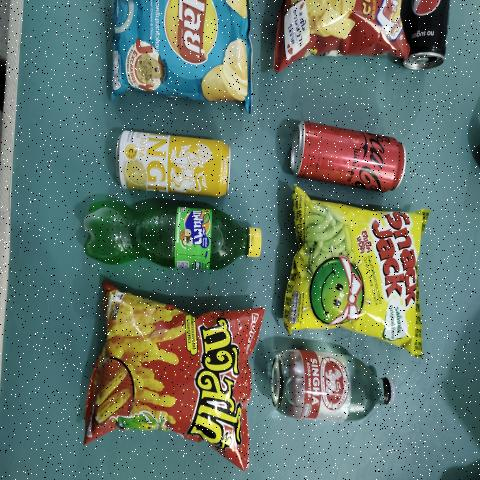coke_red: (290, 123, 406, 194)
fanta_green: (80, 192, 262, 270)
lay_blue: (112, 0, 246, 100)
singha_soda: (270, 348, 398, 420)
singha_yellow: (113, 128, 231, 193)
snack_jack: (294, 197, 420, 342)
twisco: (88, 314, 253, 436)
